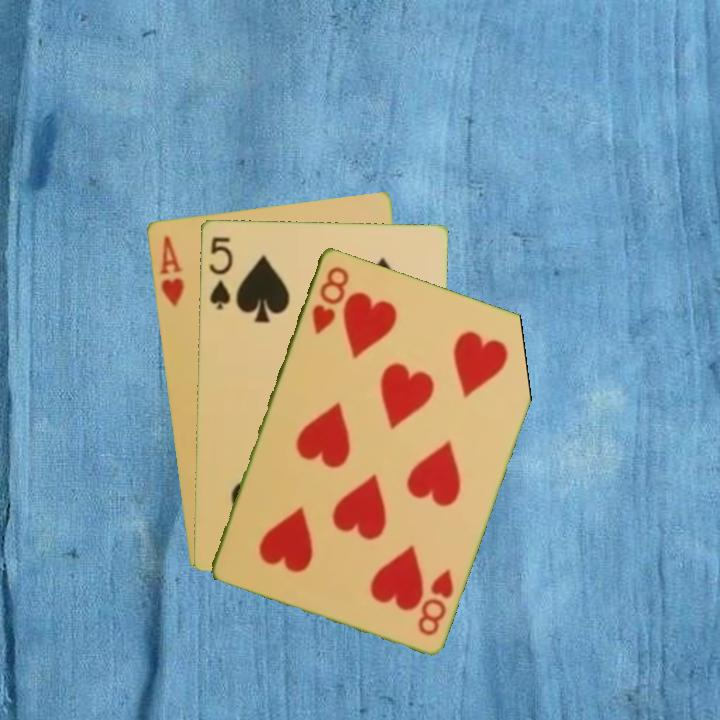5s: (205, 233, 235, 312)
8h: (308, 262, 352, 337), (413, 564, 457, 638)
Ah: (155, 232, 187, 309)
